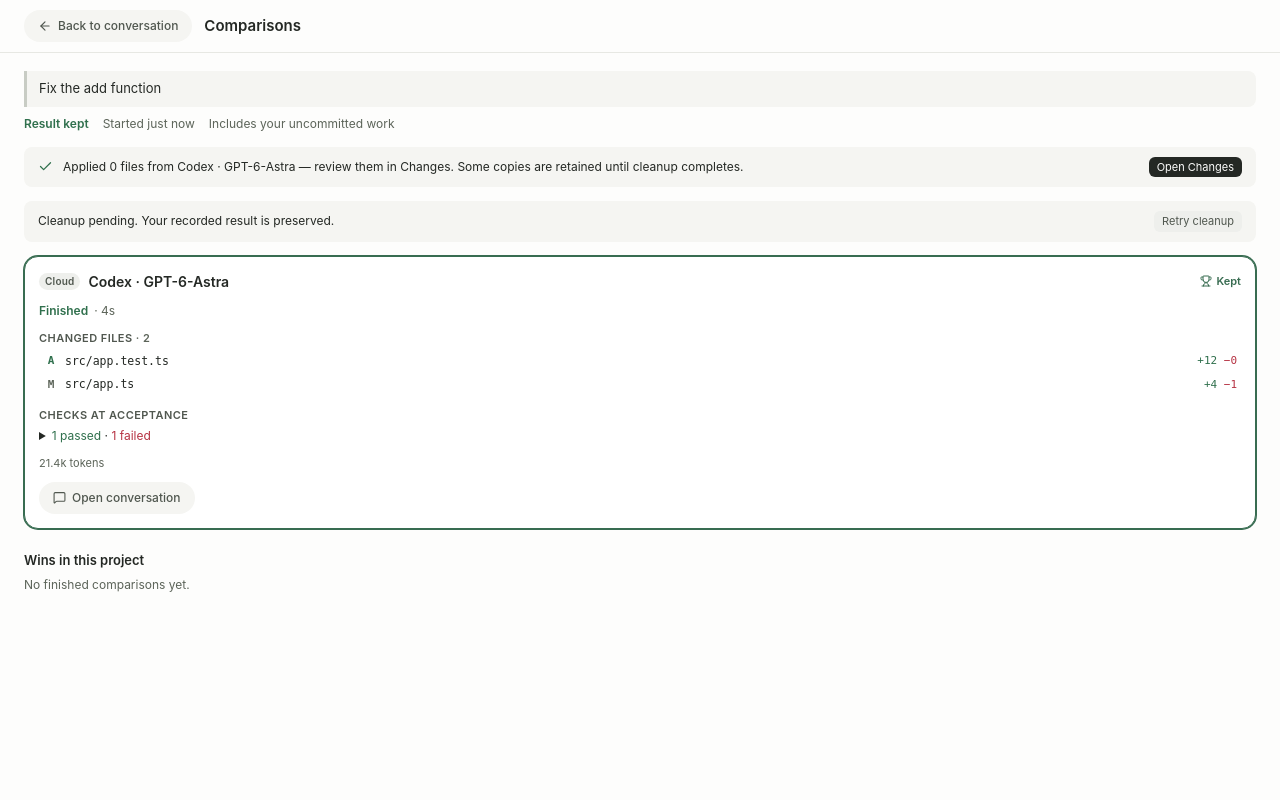
Test: CompareView › reports retained copies and retries cleanup without keeping again
This screenshot has width=1280, height=800.
Expected: the text "Some copies are retained" is shown, left=457, top=159, right=744, bottom=174
Click the button "Retry cleanup". click: (1198, 221)
box: left=1154, top=211, right=1242, bottom=232
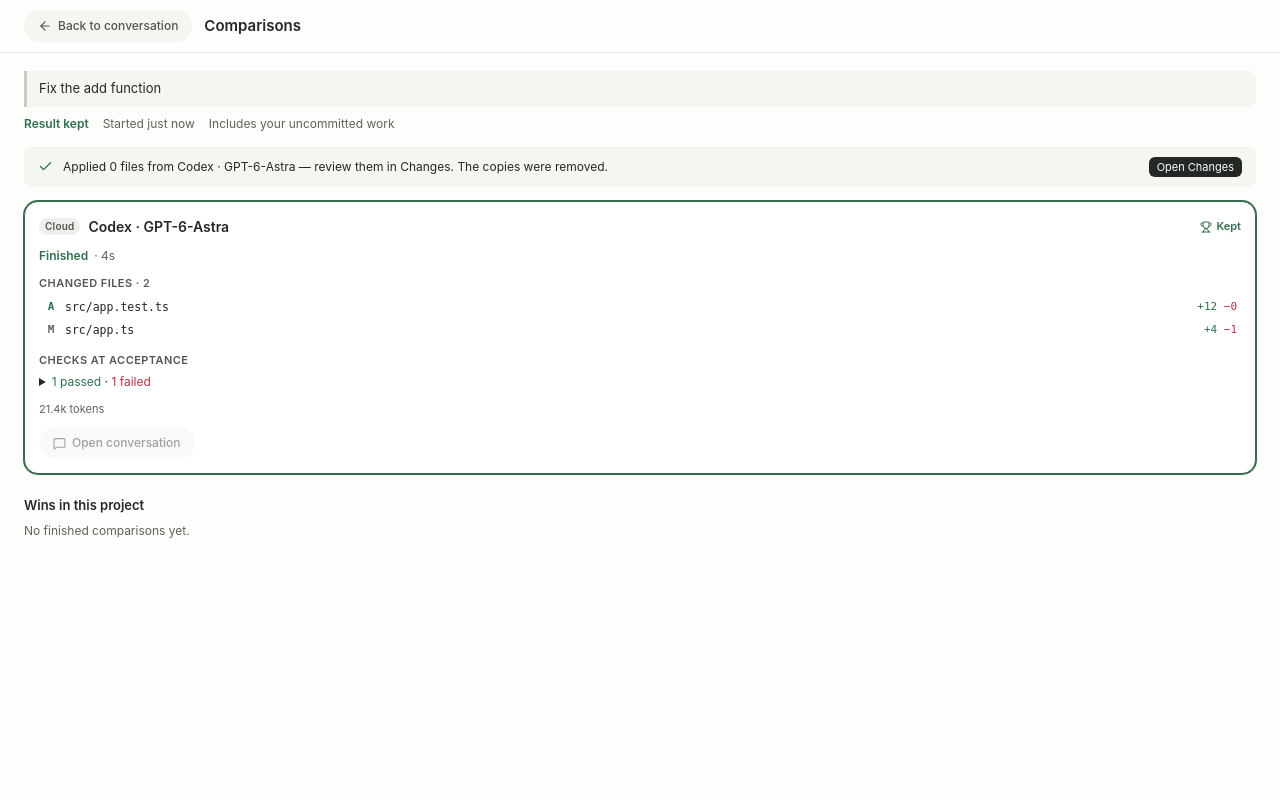
Now the button "Retry cleanup" is gone
